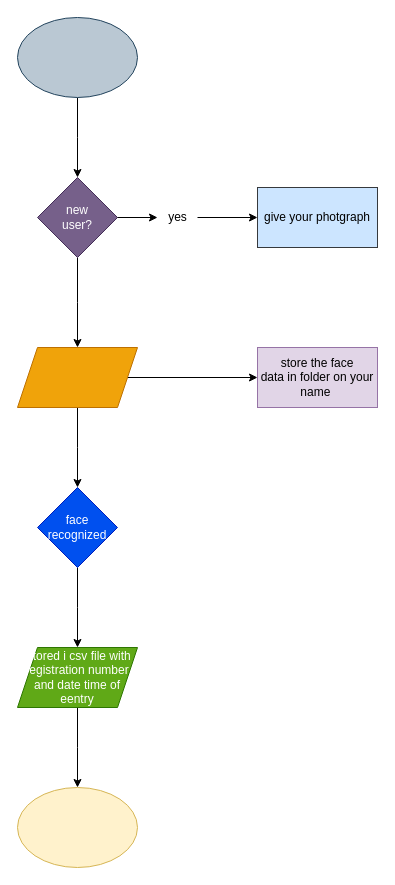
Some shapes in this 395 by 885 pixel diagram are drawn without their labels. The shapes that lost their labels are listed below. From the top down, each one's centre as x and y in pixels, then its label:
At pixel 77 57: "start".
At pixel 77 377: "recognize the face".
At pixel 77 827: "end".
